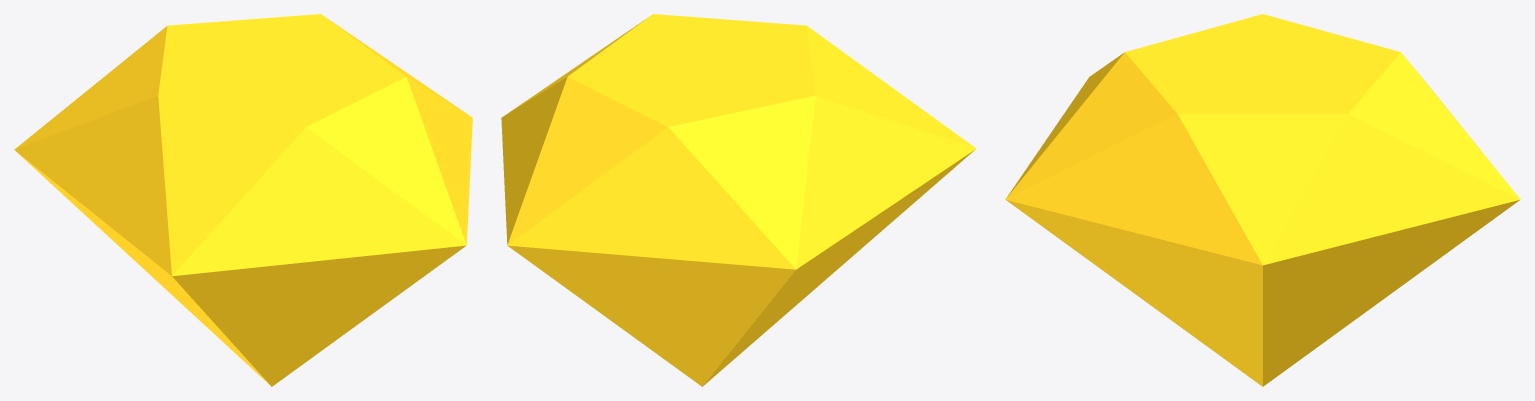
Rendered from gem_topaz_chipped.glb.
3 views of the same model, side by side, from view 1: azimuth 30°, elevation 25°; view 2: azimuth 150°, elevation 25°; view 3: azimuth 270°, elevation 25° (orthographic).
Parts seen in each view (by area): view 1: gem_topaz_1; view 2: gem_topaz_1; view 3: gem_topaz_1.
Boxes of the visible parts, box(x1,y1,x2,y2) form: gem_topaz_1: box(14, 14, 472, 386); gem_topaz_1: box(501, 14, 976, 386); gem_topaz_1: box(1005, 14, 1520, 386).
Size of the model in its own units: 0.0553 by 0.0435 by 0.0639.
